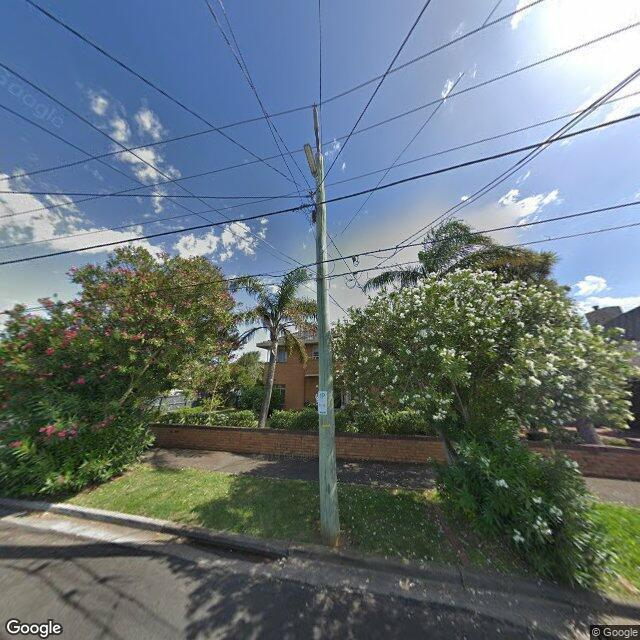HV-transmission: (311, 101, 322, 152)
crossarm: (316, 132, 320, 152)
streetlight: (303, 142, 321, 188)
timber-pole: (316, 154, 340, 543)
